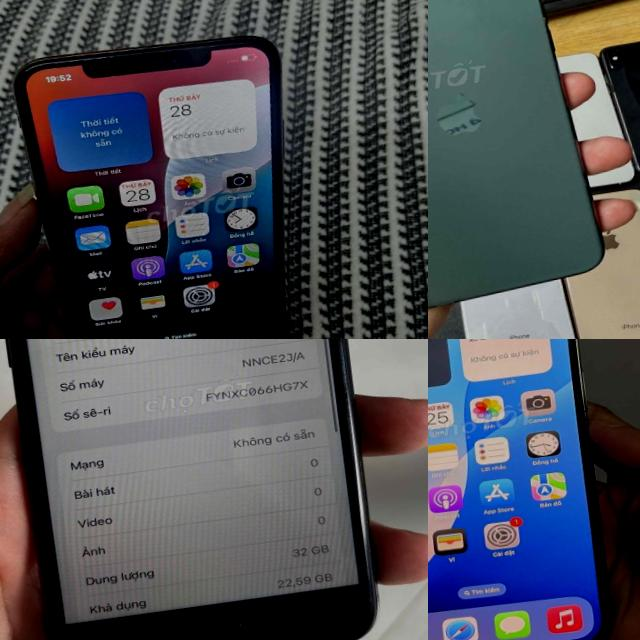scratch: (329, 339, 358, 423), (180, 607, 250, 640), (357, 552, 382, 628)
